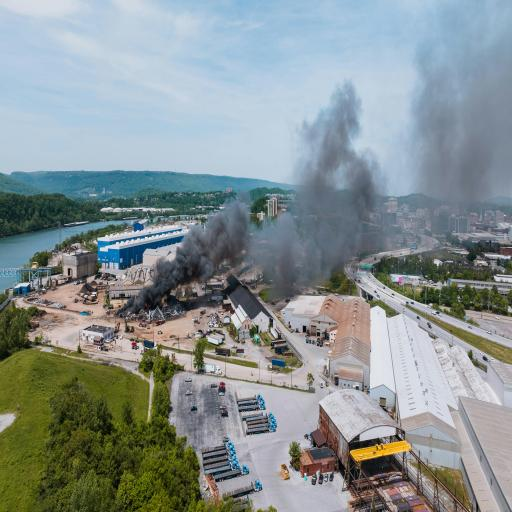smoke: (399, 0, 512, 235), (140, 195, 348, 289), (290, 85, 381, 265), (114, 271, 232, 322)
